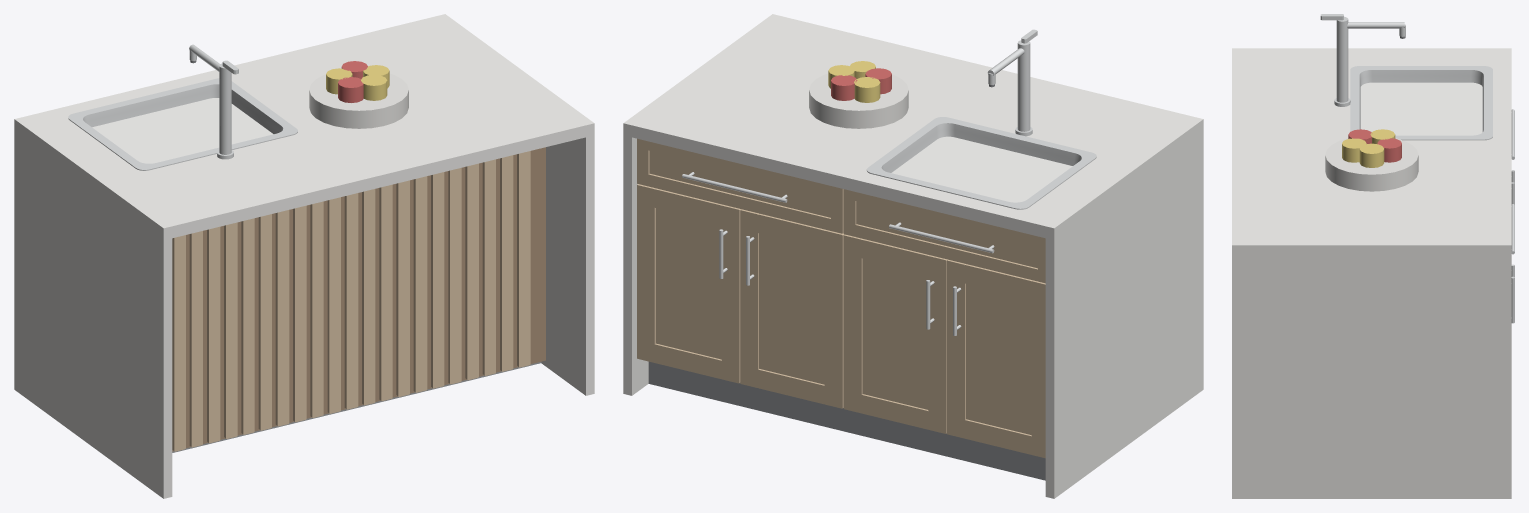
3 views of the same model, side by side, from view 1: azimuth 30°, elevation 25°; view 2: azimuth 150°, elevation 25°; view 3: azimuth 270°, elevation 25° (orthographic). The views are drawn at different scales.
Visible parts, largest first — view 1: Đảo bếp Dài=1500; Rộng=900; view 2: Đảo bếp Dài=1500; Rộng=900; view 3: Đảo bếp Dài=1500; Rộng=900.
Boxes of the visible parts, x1,y1,x2,y2 form: Đảo bếp Dài=1500; Rộng=900: [14, 14, 594, 498]; Đảo bếp Dài=1500; Rộng=900: [623, 14, 1203, 498]; Đảo bếp Dài=1500; Rộng=900: [1232, 14, 1514, 498].
Bounding box in the file's own units: 1.5 × 1.21 × 0.91.
